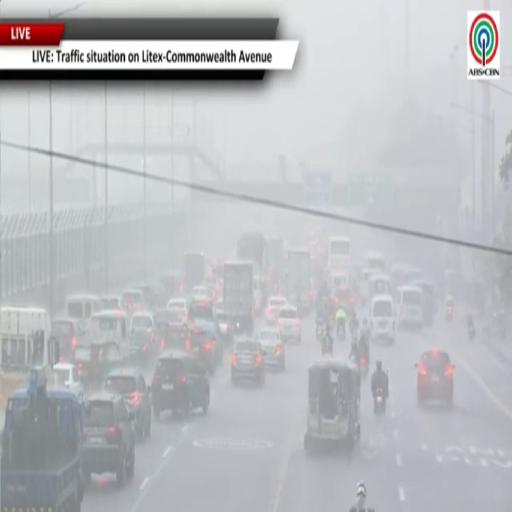car: (83, 392, 135, 485), (152, 350, 210, 419), (104, 368, 151, 440), (415, 349, 454, 406), (231, 339, 265, 387), (52, 317, 86, 361), (129, 312, 157, 365), (189, 328, 217, 375), (53, 363, 84, 404), (259, 328, 285, 370), (159, 322, 191, 351), (277, 307, 302, 343), (265, 296, 288, 324), (121, 288, 145, 314), (216, 311, 233, 345), (167, 298, 188, 323), (101, 295, 122, 310), (192, 285, 209, 300)
motorcycle: (374, 388, 386, 415), (322, 336, 333, 356), (359, 356, 368, 377), (337, 324, 345, 342), (445, 306, 453, 323), (468, 326, 476, 341), (351, 326, 358, 342)
truck: (0, 367, 83, 511), (223, 262, 254, 333), (286, 249, 313, 313), (237, 232, 266, 273), (267, 238, 285, 292), (184, 251, 205, 293)
